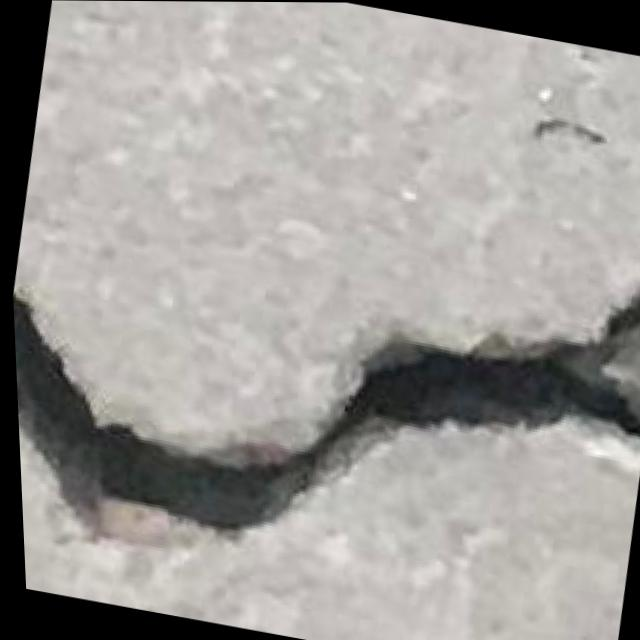Crack: (5, 144, 640, 639)
